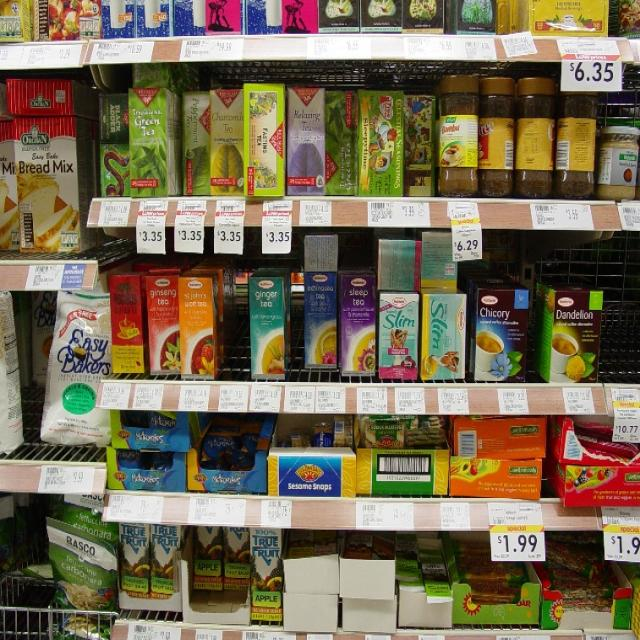q118: (544, 284, 604, 385)
q247: (125, 81, 177, 201)
